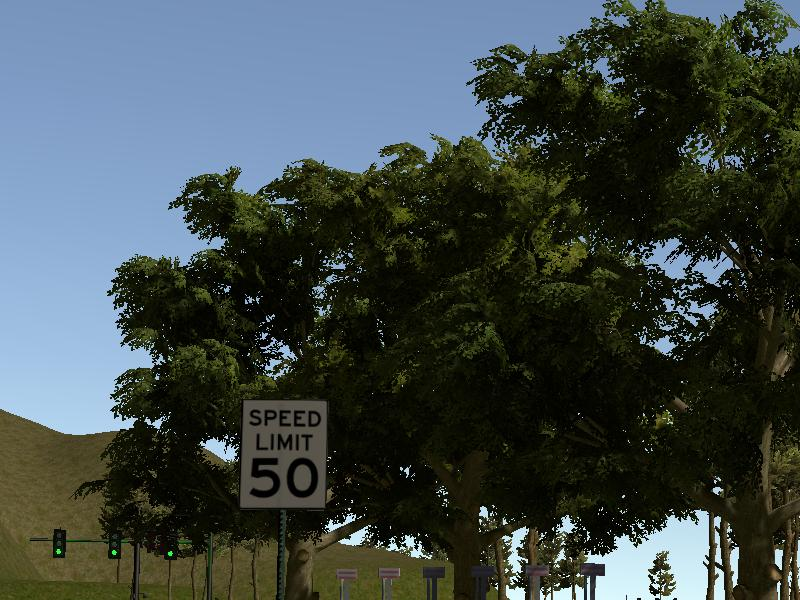Green: (54, 529, 66, 557), (108, 532, 120, 558)
